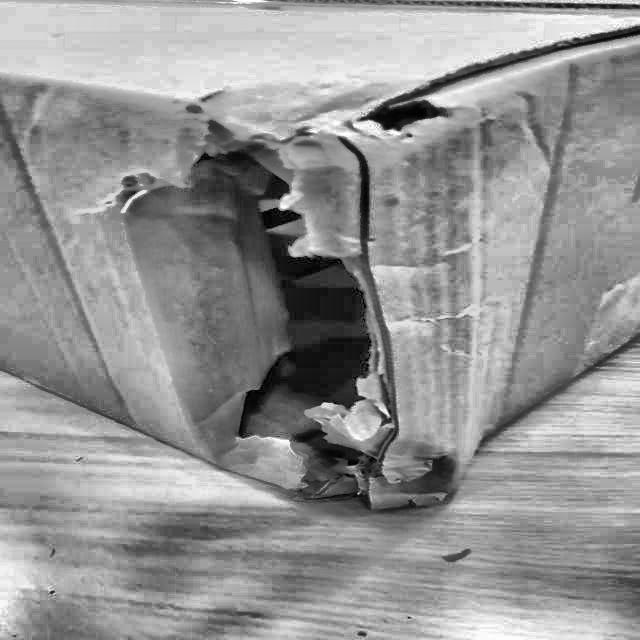box: (0, 0, 639, 531)
hole: (106, 95, 492, 508)
